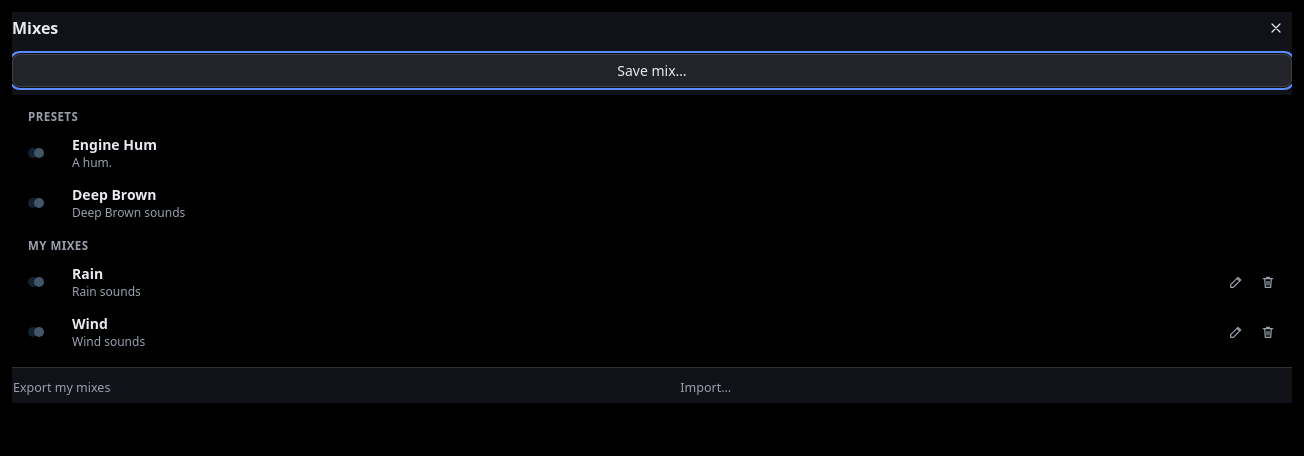
MixesView rename and delete › renames inline
This screenshot has width=1304, height=456.
Click the button named "Rename Rain". click: (1236, 282)
box: [1220,266,1252,298]
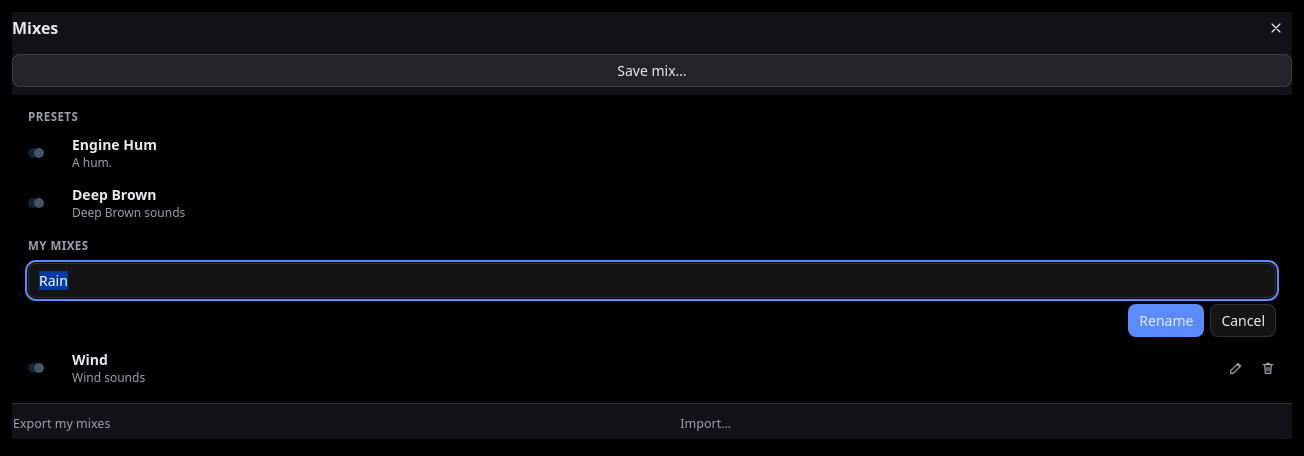
Now the field named "New name for Rain" holds "Rain"
Replace the text in the field named "New name for Rain" with "Rainy Cabin". click: (652, 280)
box: [28,263,1276,298]
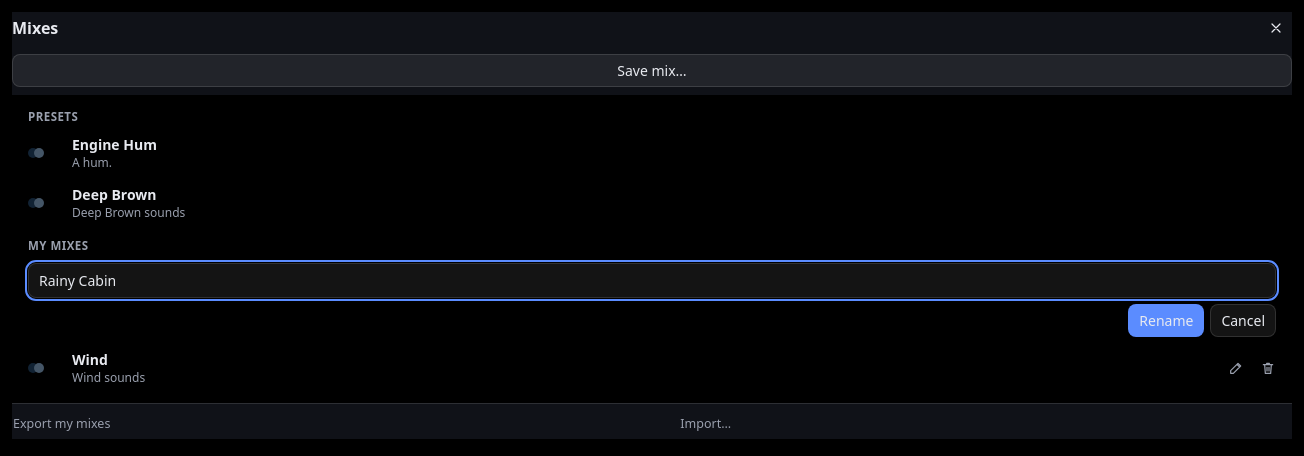
Submit the form from the field named "New name for Rain", box [28,263,1276,298]
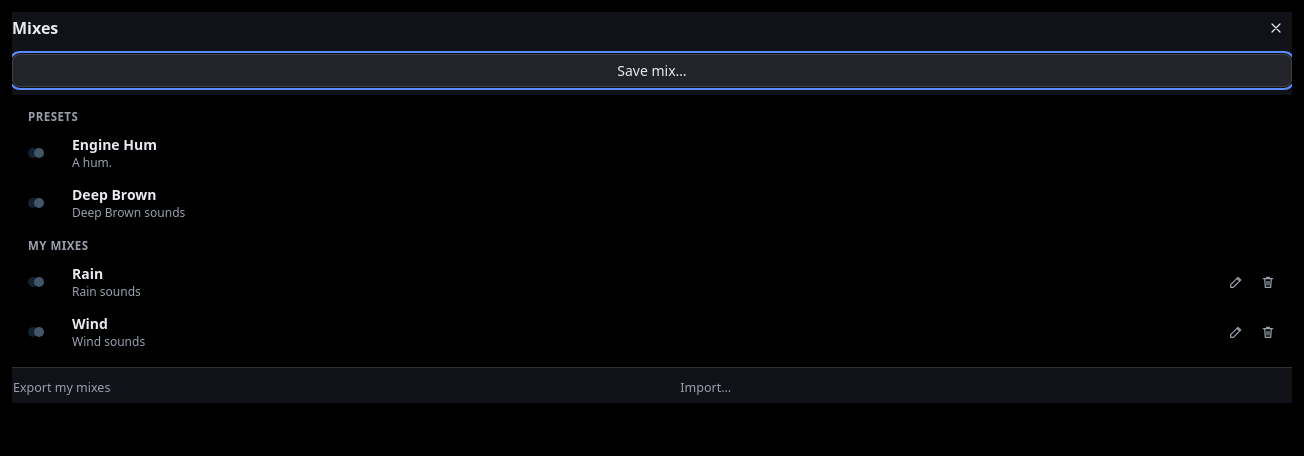
Expected: the button "Save mix…" is shown, [12,54,1292,87]
Now the field is gone
